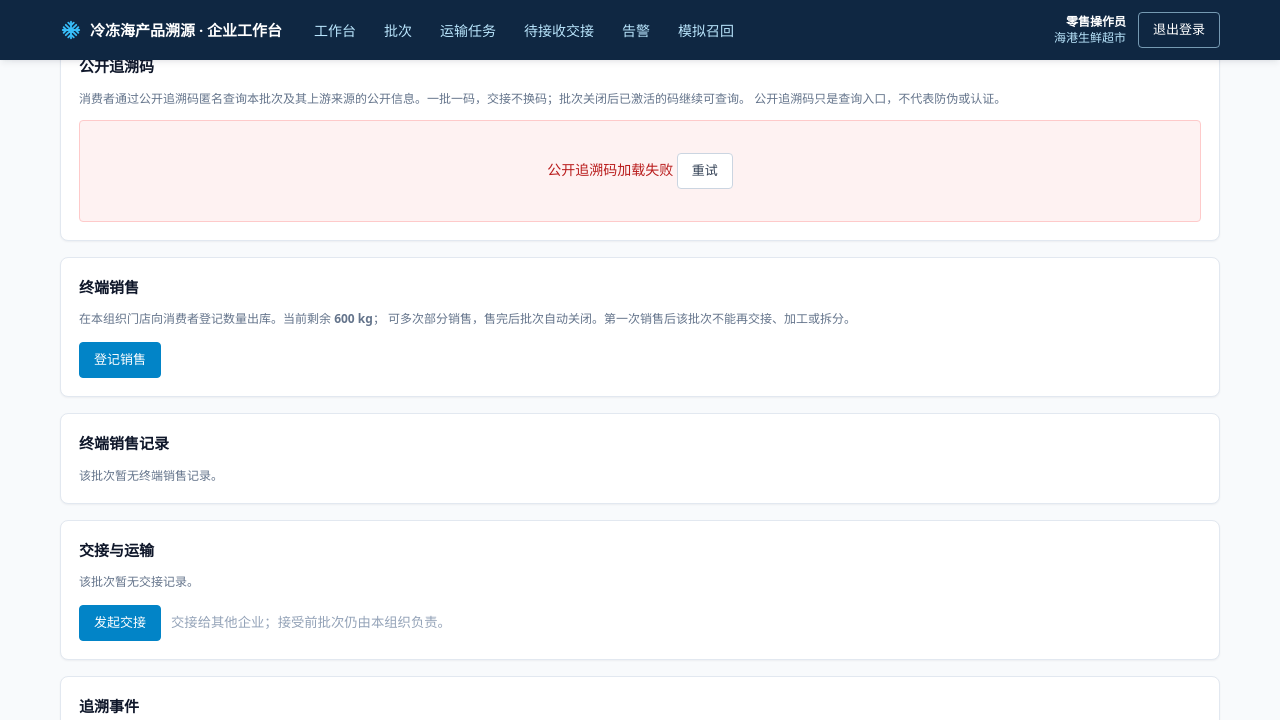
Test: Sale form › shows an empty state when the org has no active store
The image size is (1280, 720).
(page scrolled)
Click the button with test id "sale-start".
click(120, 360)  # box [79,342,161,378]
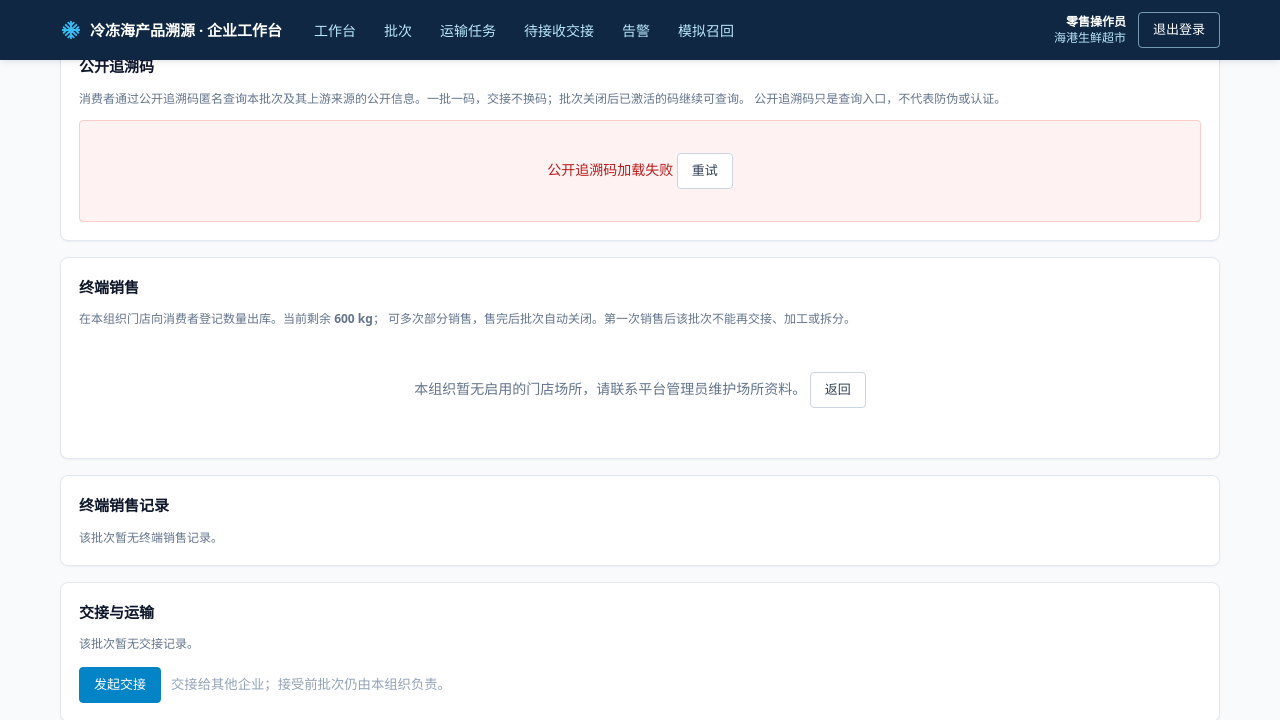
Now the message "本组织暂无启用的门店场所，请联系平台管理员维护场所资料。 返回" is shown, box [414,372,866,408]
